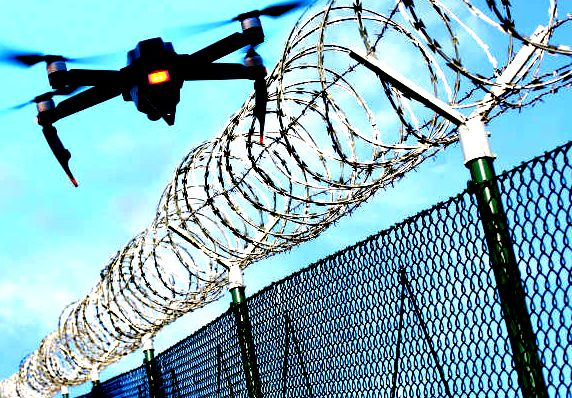Drone: (0, 0, 321, 187)
